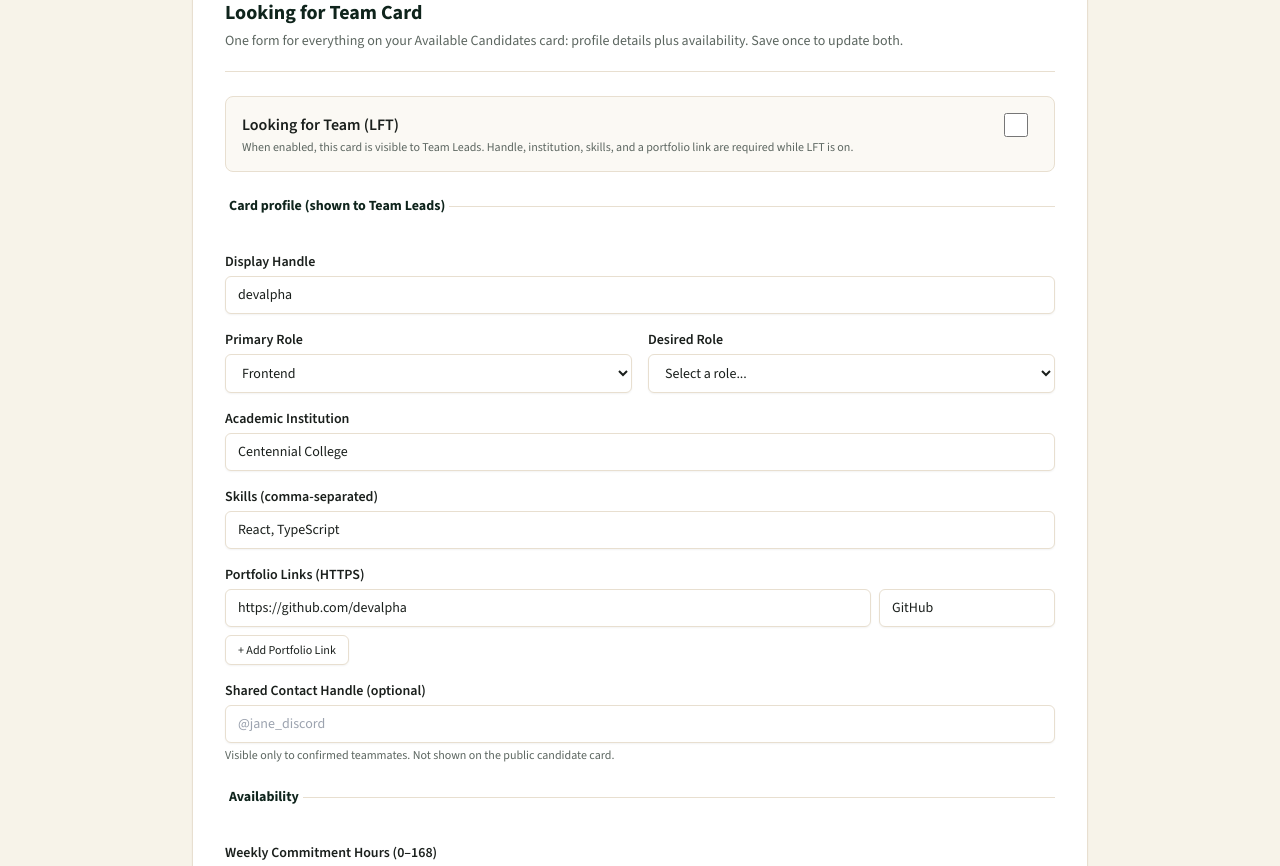
Test: LookingForTeamPage Component (US-011 / #US-288) › preserves user-entered input on client validation errors (NR-010 & AC 2)
Click the switch labelled "Looking for Team (LFT)". click: point(1016, 125)
box: [994,113,1038,137]
(page scrolled)
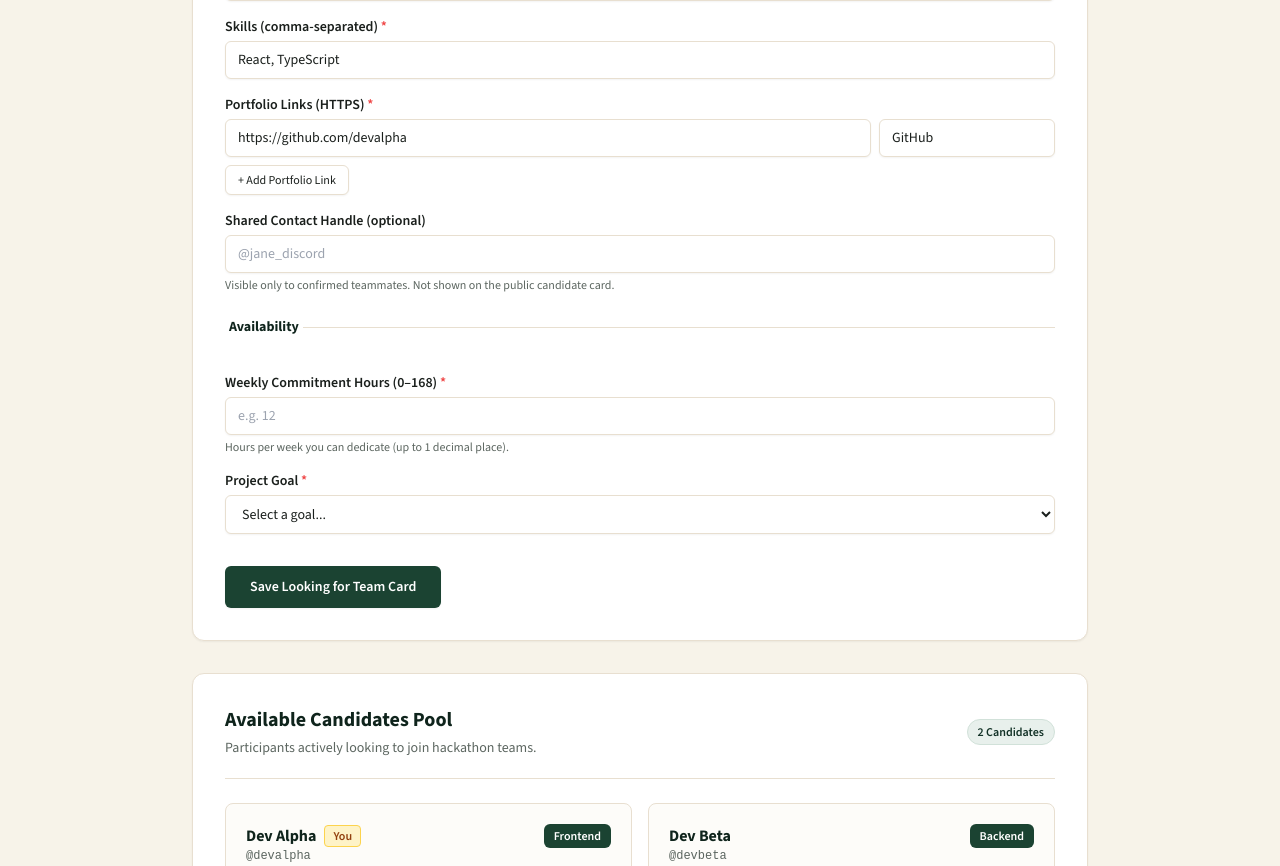
Enter out-of-range commitment hours
Type "250" into the number field labelled "Weekly Commitment Hours (0–168) *". click: point(640, 416)
box: [225,397,1055,435]
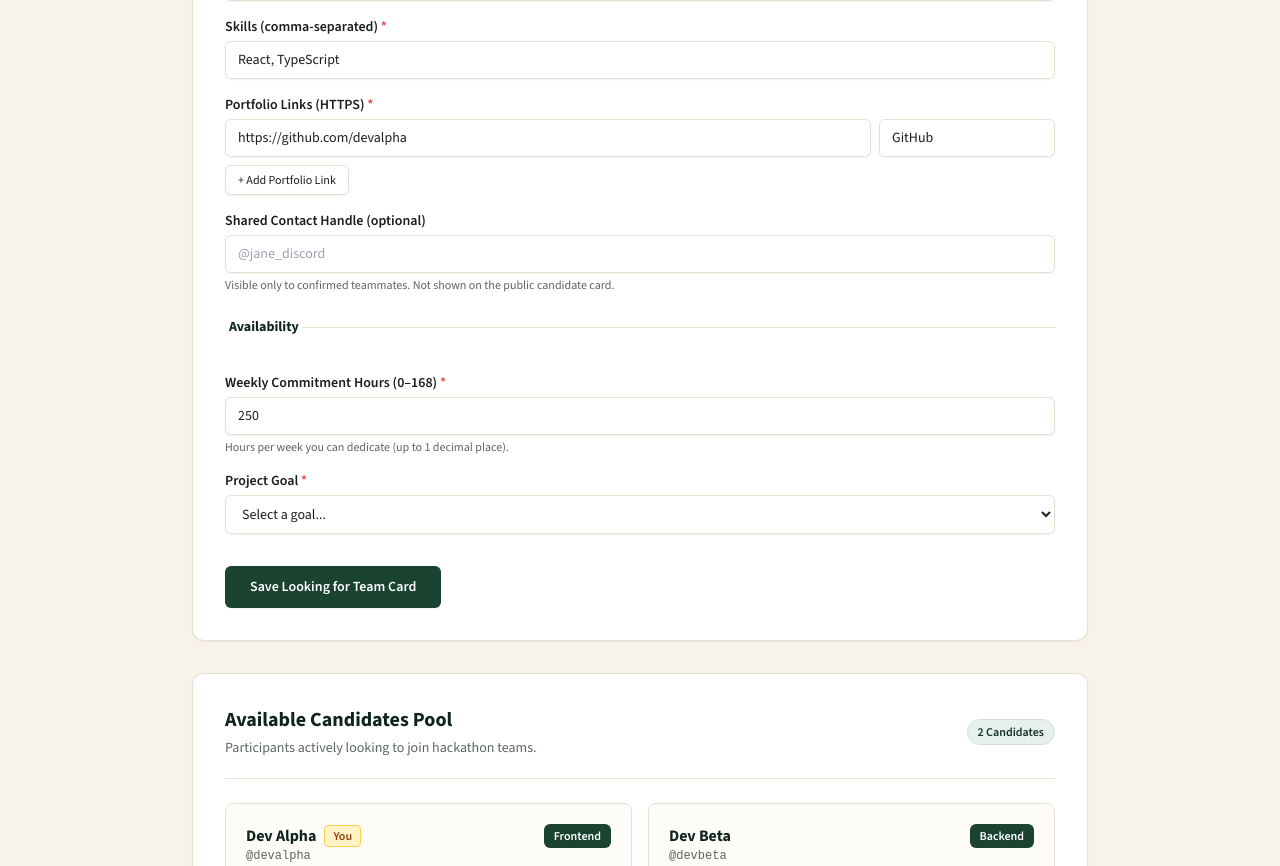
Click the button "Save Looking for Team Card". click: point(333, 587)
box: [225,566,441,608]
(page scrolled)
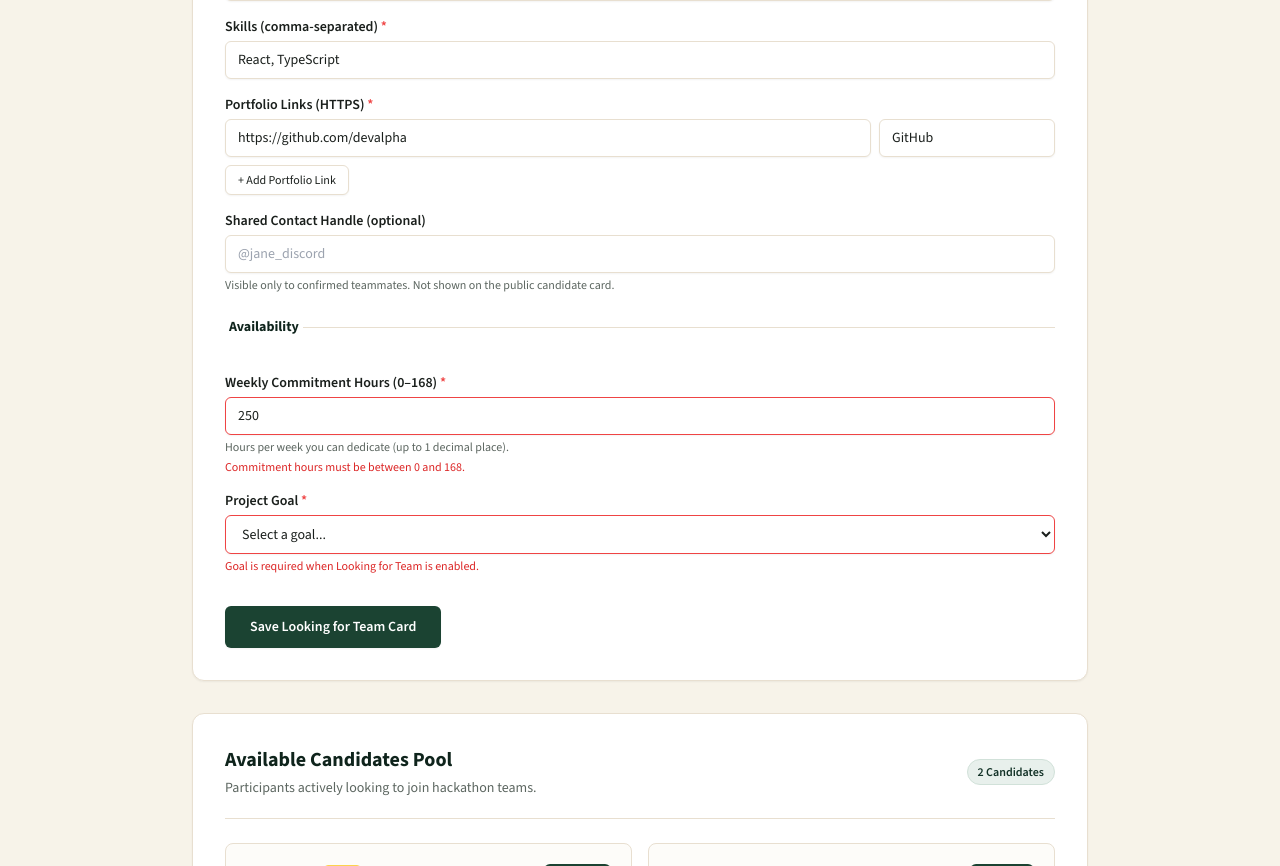
expect the text "Commitment hours must be between 0 and 168." is shown: met, box [225,459,465,475]
